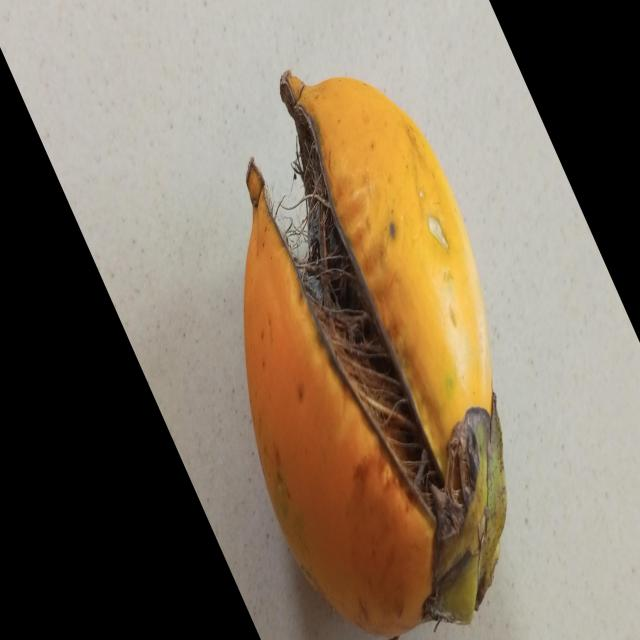damaged: (244, 73, 508, 637)
